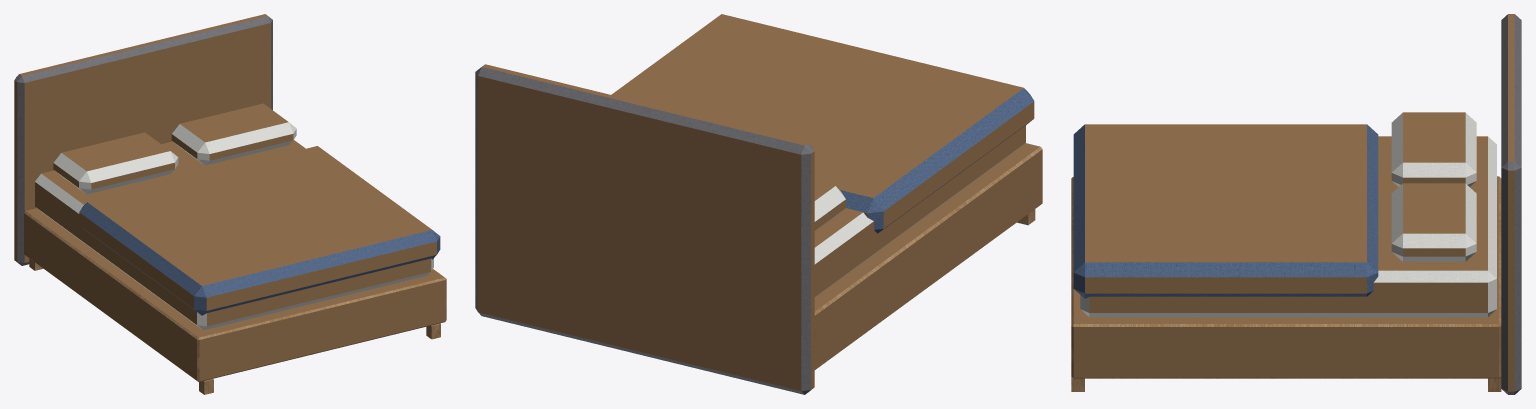
File: bed_double_starter.glb
The picture shows the model from 3 angles, left to right: view 1: azimuth 30°, elevation 25°; view 2: azimuth 150°, elevation 25°; view 3: azimuth 270°, elevation 25°; orthographic projection. The views are drawn at different scales.
Parts seen in each view (by area): view 1: bed_double; view 2: bed_double; view 3: bed_double.
Boxes of the visible parts, x1=… form: bed_double: x1=14, y1=14, x2=446, y2=394; bed_double: x1=475, y1=14, x2=1042, y2=394; bed_double: x1=1071, y1=14, x2=1521, y2=394.
Size of the model in its own units: 1.62 by 1.15 by 2.01.
4 materials, 4 textured.
